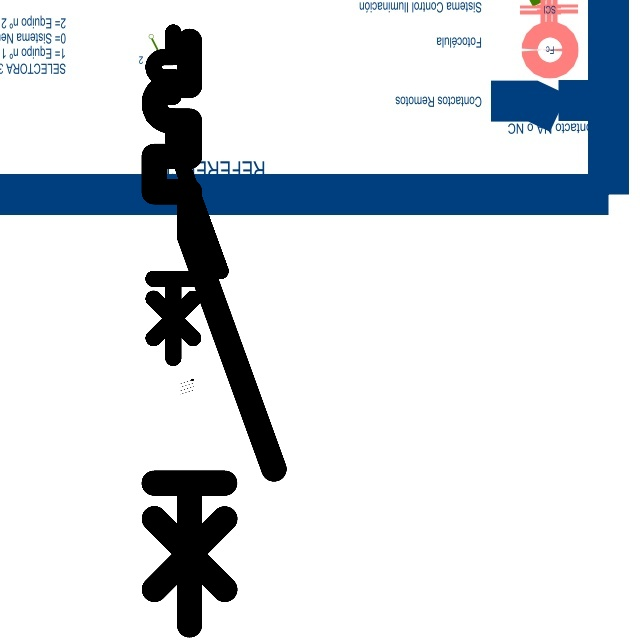interruptor_termomagnetico: (139, 26, 289, 640), (145, 24, 229, 366)
